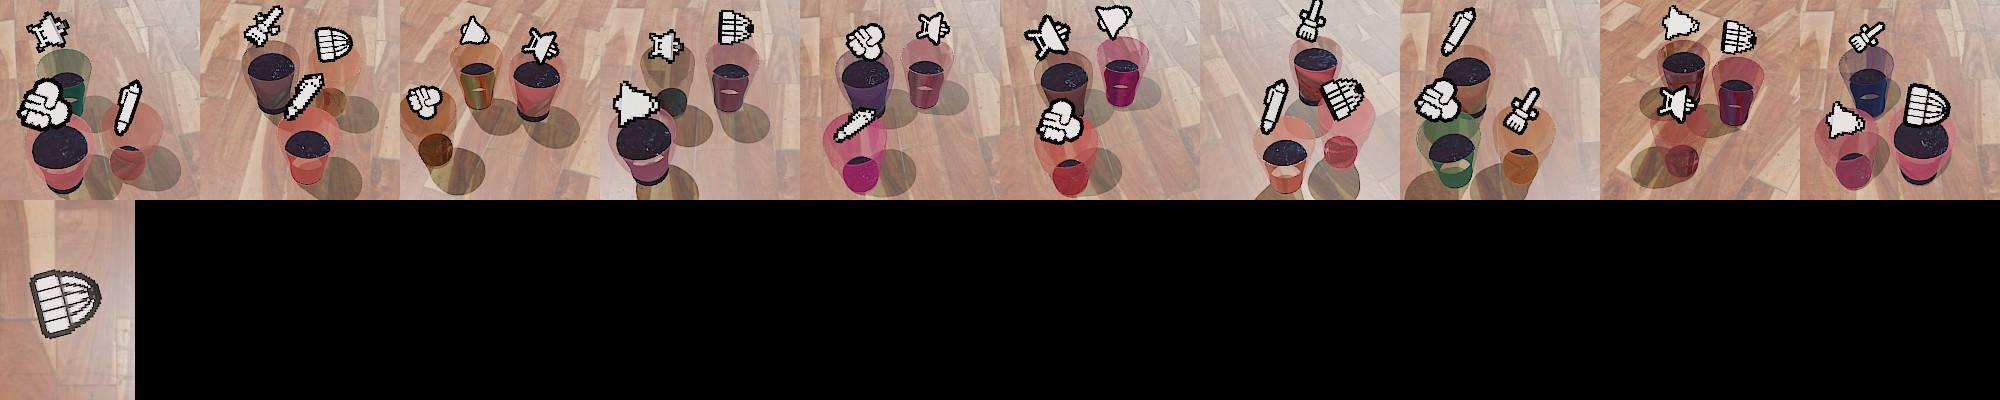icon: (27, 268, 103, 339), (16, 77, 74, 131), (1035, 97, 1084, 144), (611, 79, 661, 125), (1024, 14, 1071, 61), (1413, 77, 1462, 122), (1320, 75, 1365, 122), (1902, 83, 1949, 127), (283, 72, 325, 121), (1440, 6, 1478, 58), (26, 11, 70, 55), (1503, 86, 1542, 135), (832, 106, 880, 144), (113, 78, 144, 136), (244, 5, 285, 48), (1656, 84, 1699, 124), (1260, 78, 1289, 135), (1825, 99, 1867, 138), (845, 22, 884, 62), (522, 27, 561, 65), (1662, 4, 1701, 41), (1720, 19, 1757, 56), (314, 26, 351, 63), (1095, 4, 1133, 40), (1296, 0, 1327, 43), (717, 9, 754, 45), (916, 10, 952, 46), (406, 84, 443, 119), (648, 28, 684, 63), (1849, 21, 1885, 54), (459, 14, 490, 46)
